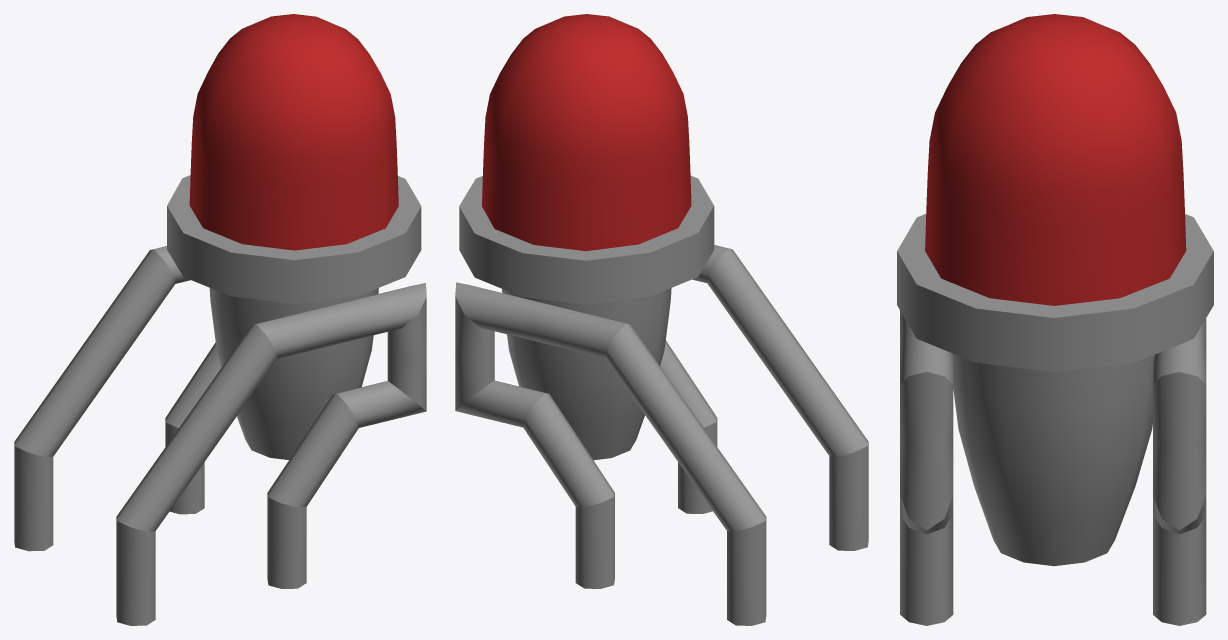
The model's file is factory_lamp.FBX.
3 views of the same model, side by side, from view 1: azimuth 30°, elevation 25°; view 2: azimuth 150°, elevation 25°; view 3: azimuth 270°, elevation 25° (orthographic). The views are drawn at different scales.
Visible parts, largest first — view 1: line_a_roud; view 2: line_a_roud; view 3: line_a_roud.
Boxes of the visible parts, x1,y1,x2,y2 form: line_a_roud: (14,14,426,625); line_a_roud: (455,14,868,625); line_a_roud: (897,14,1213,625).
Bounding box in the file's own units: 83.46 × 54.46 × 118.
